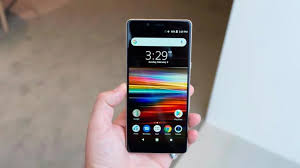sony: (123, 15, 195, 154)
